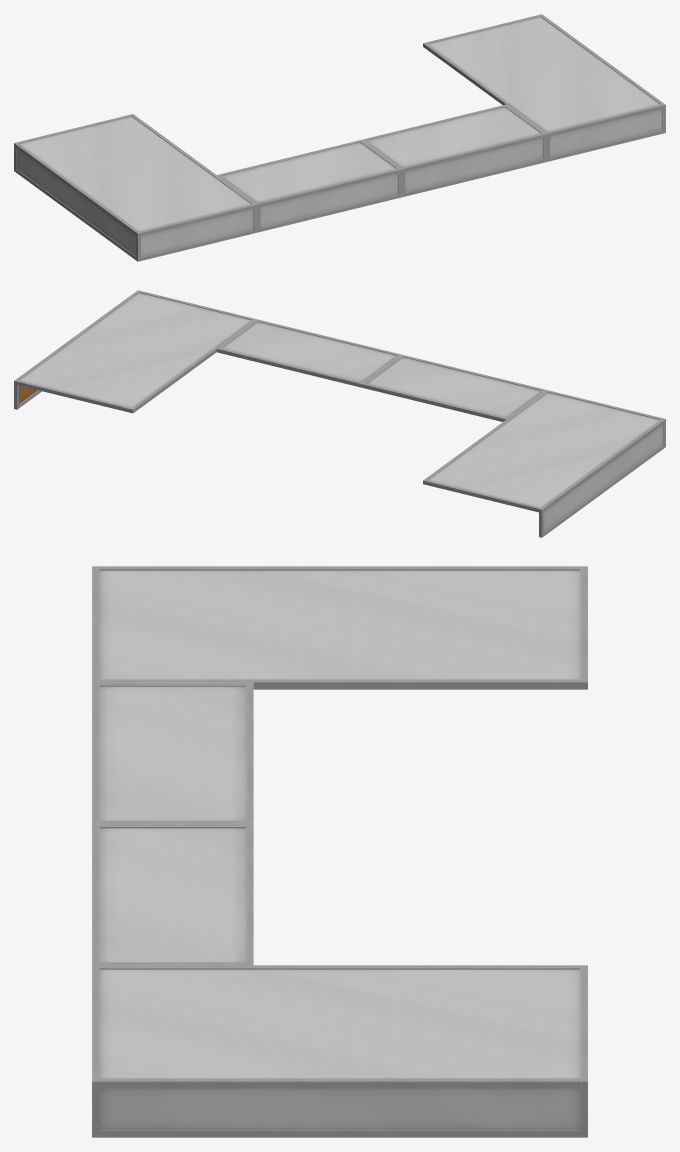
The model's file is jsf_2P_s02_c04_t03_DX.fbx.
The picture shows the model from 3 angles, top to bottom: view 1: azimuth 30°, elevation 25°; view 2: azimuth 150°, elevation 25°; view 3: azimuth 270°, elevation 25°; orthographic projection. The views are drawn at different scales.
Parts seen in each view (by area): view 1: jsf_2P_s02_c04_t03_DX; view 2: jsf_2P_s02_c04_t03_DX; view 3: jsf_2P_s02_c04_t03_DX.
Part boxes in pixels (x1,y1,x2,y2): jsf_2P_s02_c04_t03_DX: [14, 14, 665, 261]; jsf_2P_s02_c04_t03_DX: [14, 290, 665, 537]; jsf_2P_s02_c04_t03_DX: [92, 566, 587, 1137].
Bounding box in the file's own units: 246 × 12.51 × 100.
